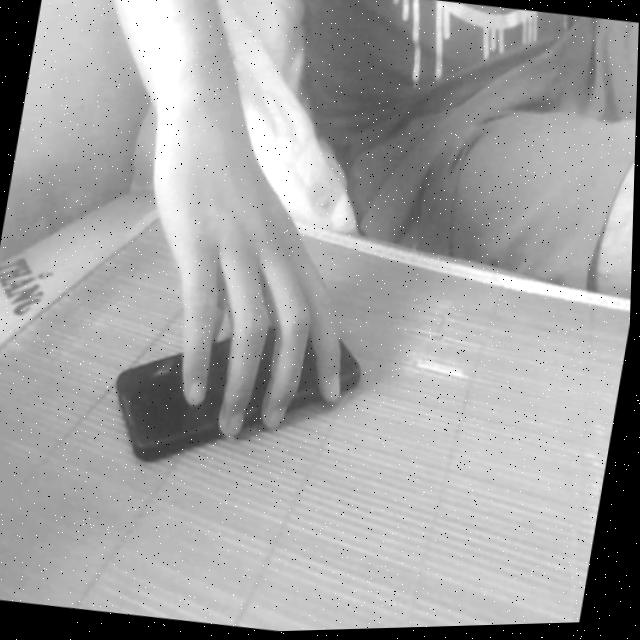phone: (79, 251, 403, 517)
